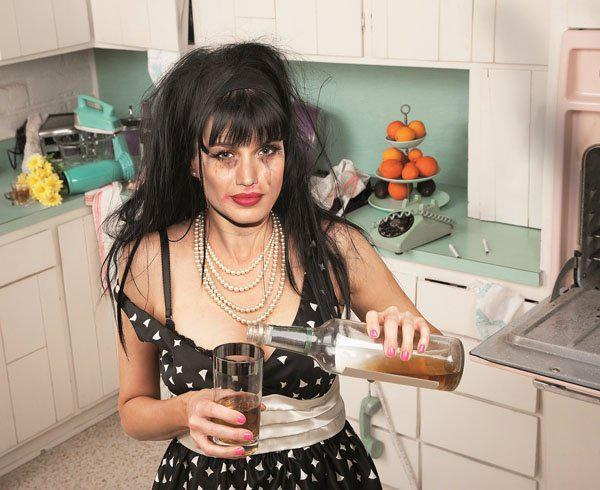Drunk: (206, 114, 282, 220)
